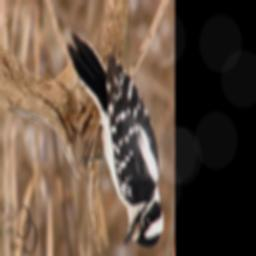Woodpecker: (65, 25, 165, 249)
